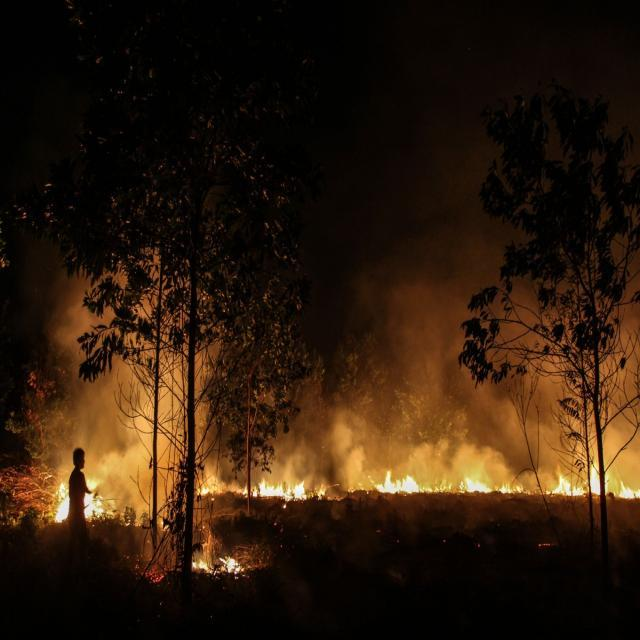Fire: (544, 464, 640, 504), (242, 466, 327, 506), (186, 536, 247, 585), (54, 482, 108, 536), (448, 467, 530, 500), (370, 462, 431, 502)
Smoke: (362, 160, 638, 466), (71, 256, 212, 511)
